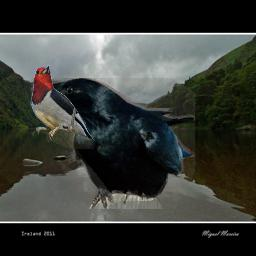Crow: (31, 78, 195, 209)
Woodpecker: (28, 61, 98, 149)
